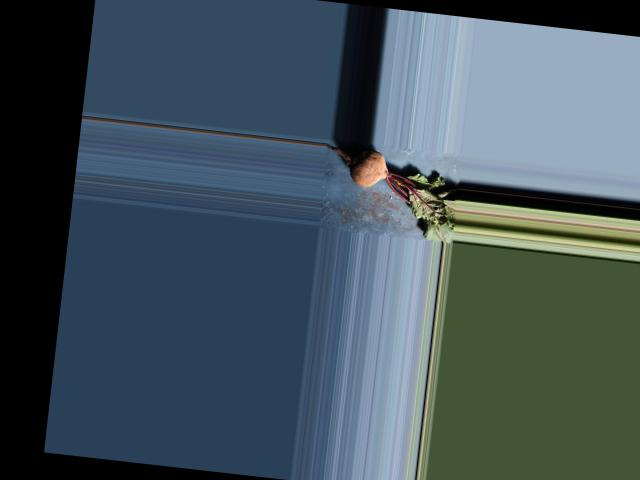beet: (318, 143, 463, 243)
